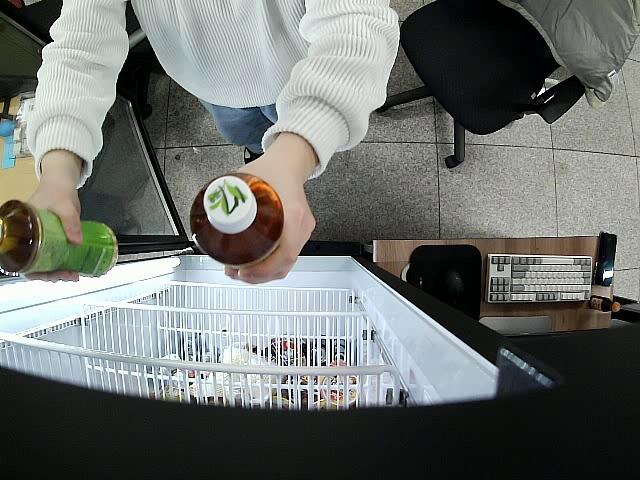00_hand: (226, 166, 318, 282), (18, 190, 84, 285)
19_17cha: (0, 201, 119, 278), (189, 174, 283, 271)
